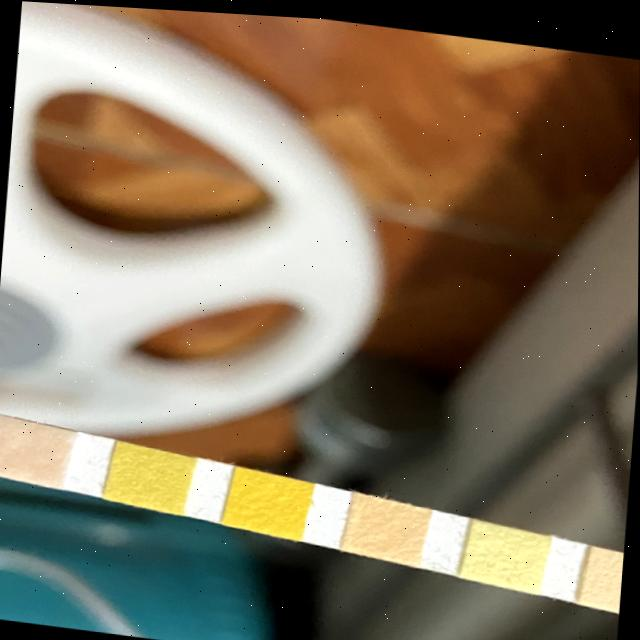Blood: (229, 468, 309, 531)
Ketone: (0, 420, 69, 482)
Protein: (466, 518, 548, 581)
SpGravity: (112, 446, 189, 507)
Urobilinogen: (587, 544, 624, 602)
pH: (348, 492, 422, 554)
